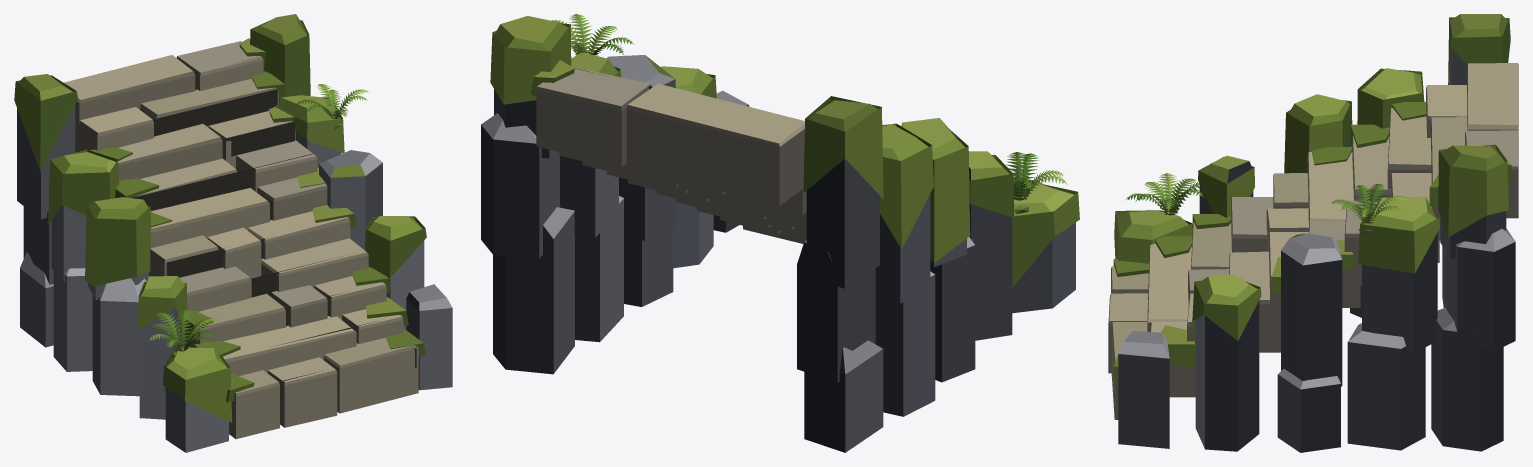
Rendered from wf_stone_steps.glb.
The picture shows the model from 3 angles, left to right: view 1: azimuth 30°, elevation 25°; view 2: azimuth 150°, elevation 25°; view 3: azimuth 270°, elevation 25°; orthographic projection. The views are drawn at different scales.
Parts seen in each view (by area): view 1: wf_stone_steps; view 2: wf_stone_steps; view 3: wf_stone_steps.
Part boxes in pixels (bbox=[...]): wf_stone_steps: bbox=[14, 14, 452, 452]; wf_stone_steps: bbox=[481, 14, 1079, 452]; wf_stone_steps: bbox=[1108, 14, 1518, 452].
Size of the model in its own units: 4.1 by 3.22 by 4.15.
